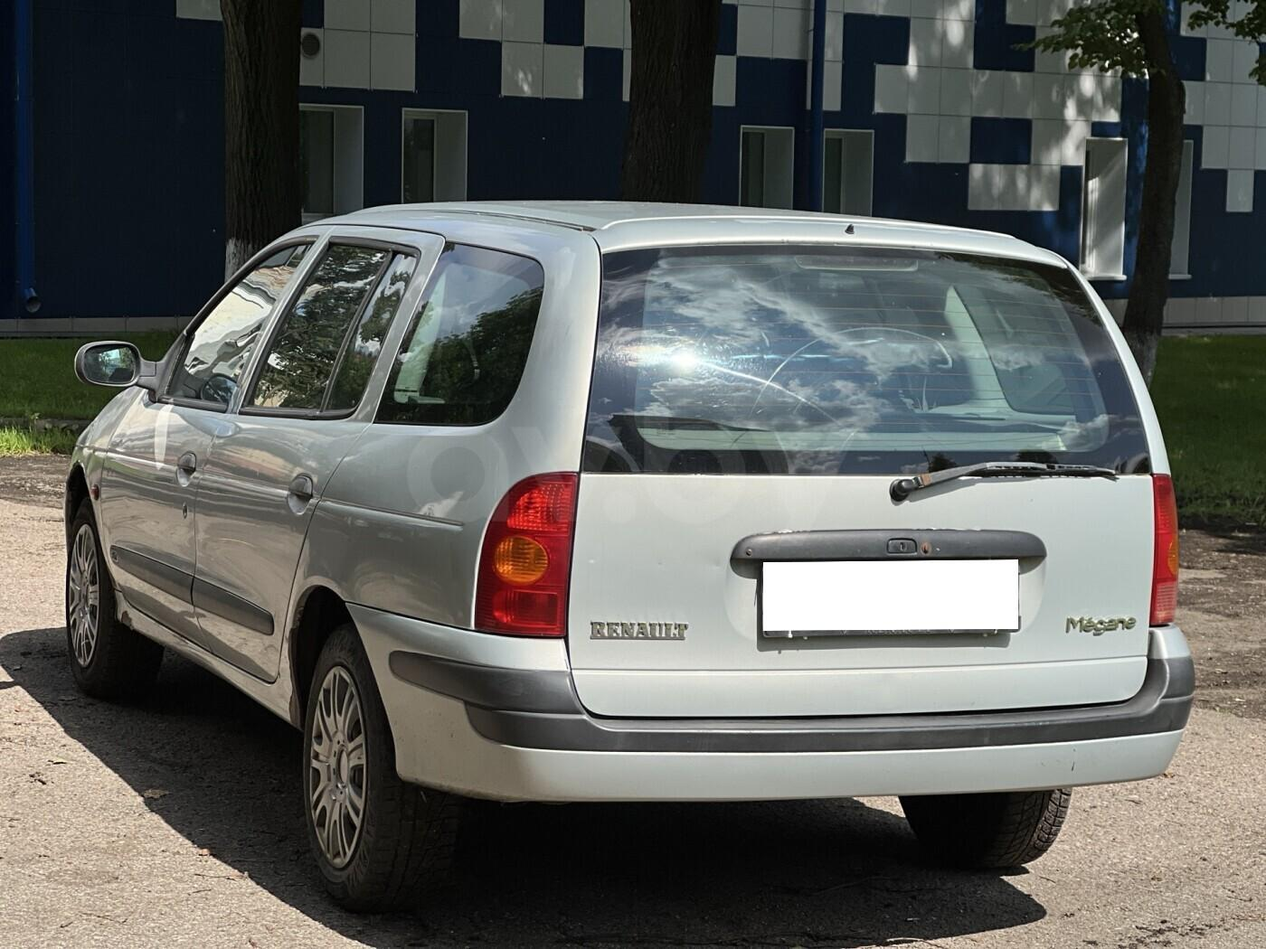Megane_1999-2003: (52, 194, 1198, 915)
